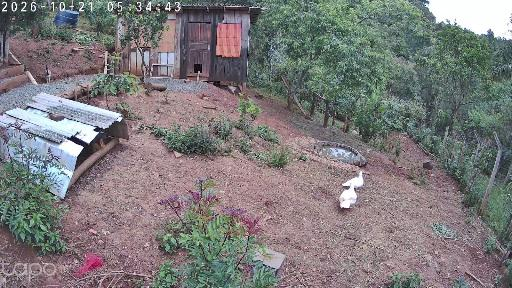frango: (227, 83, 238, 96)
galinha: (45, 65, 52, 84)
pato: (338, 184, 356, 212), (342, 171, 363, 190)
